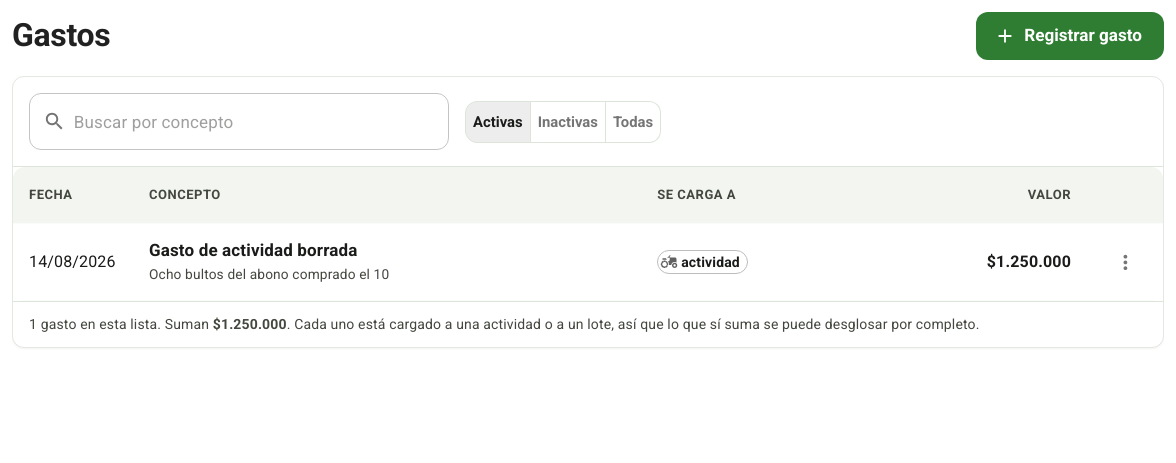
Test: ExpensesPage — names that did not come back › says «actividad» and «lote» when the server has no name, and «suma» for one live expense
Expected: the text "actividad" is shown, [681,254,740,270]
Click the button "Todas".
click(633, 122)  # box [605,101,661,143]
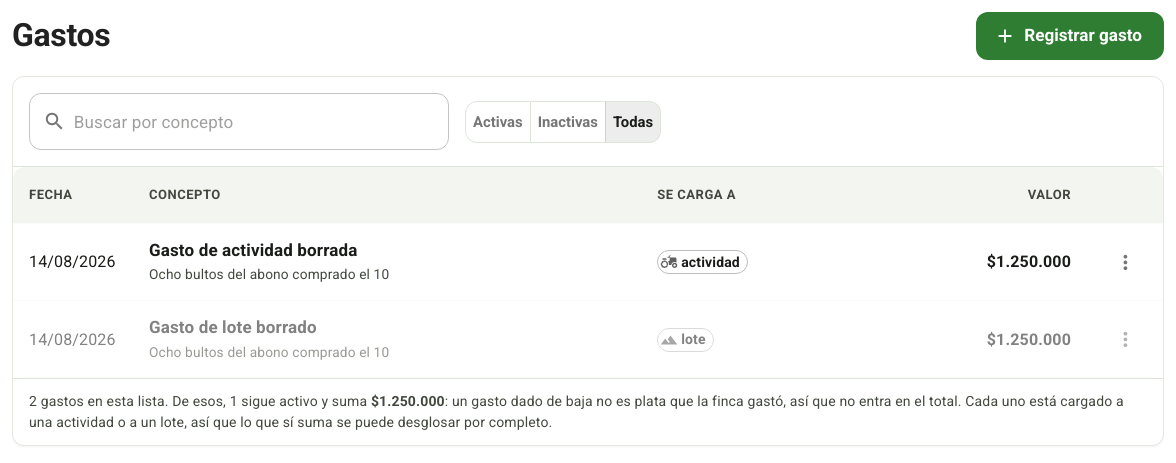
Expected: the text "lote" is shown, [681,331,706,347]
Expected: the text "1 sigue activo y suma" is shown, [13,378,1163,445]
